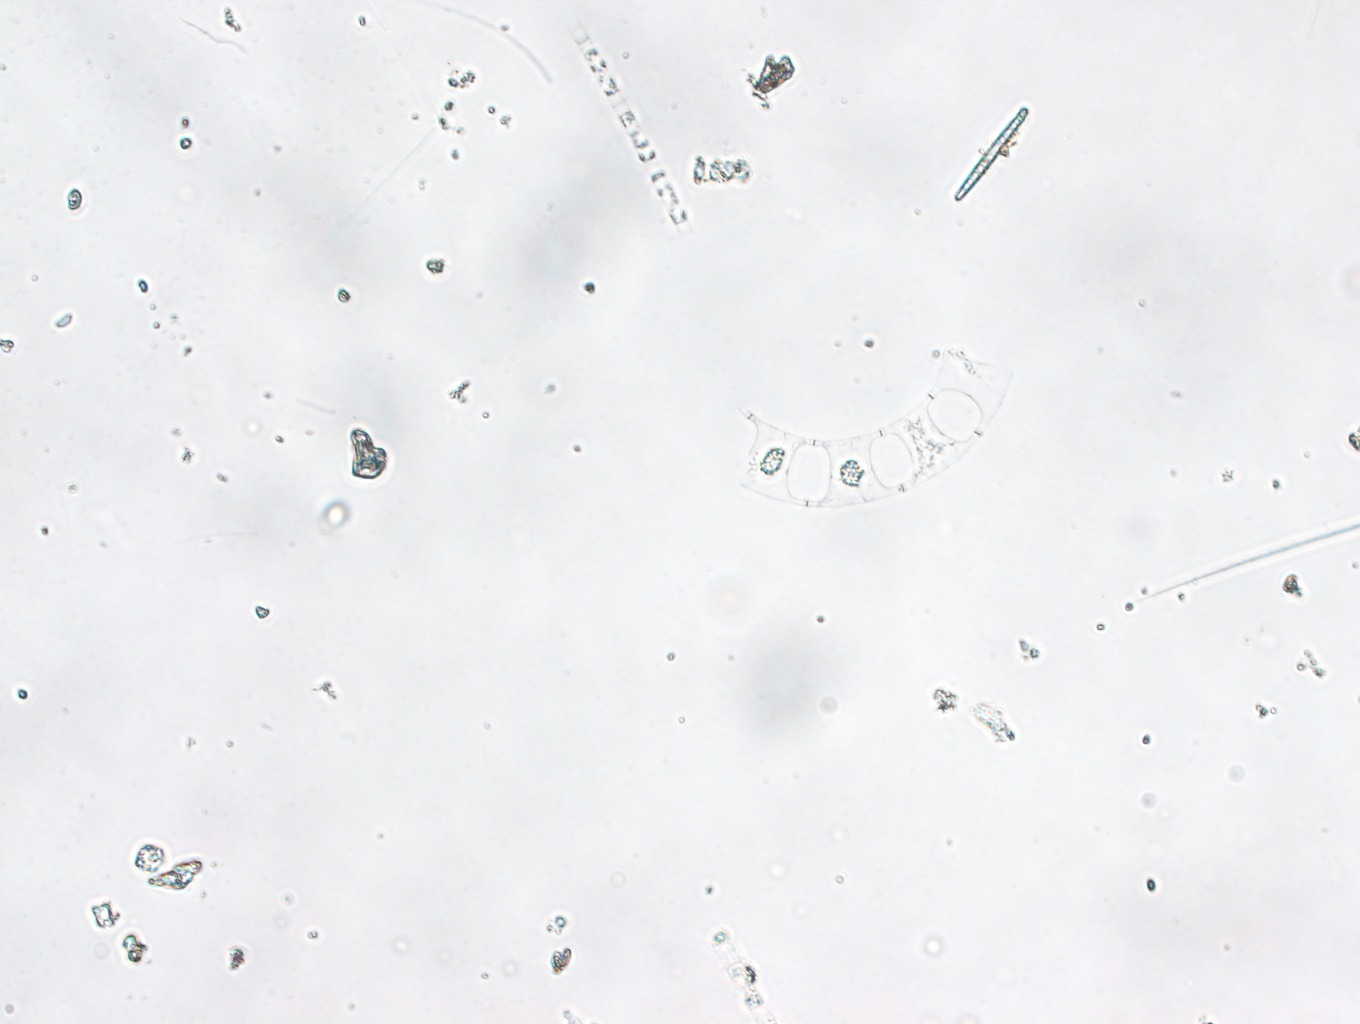eucampia: (739, 347, 1014, 511)
skeletonema: (573, 26, 695, 236)
